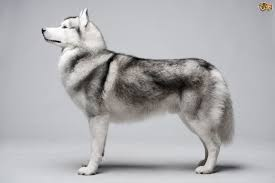Bulldog: (31, 12, 249, 175)
